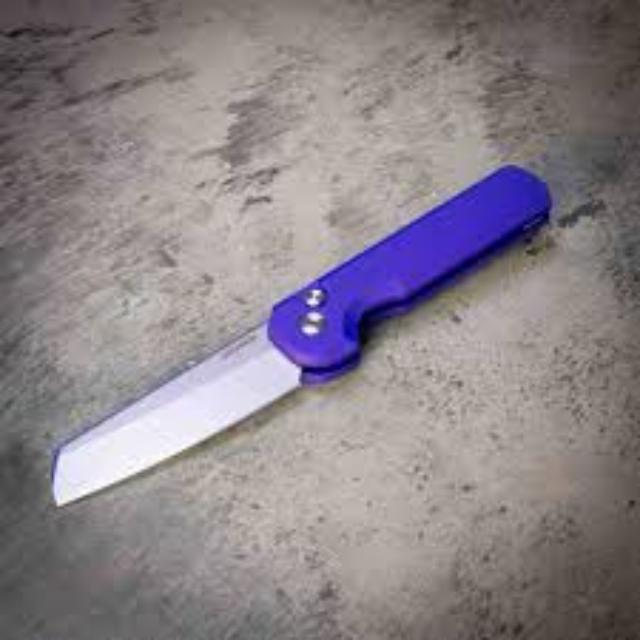knife: (49, 162, 552, 506)
